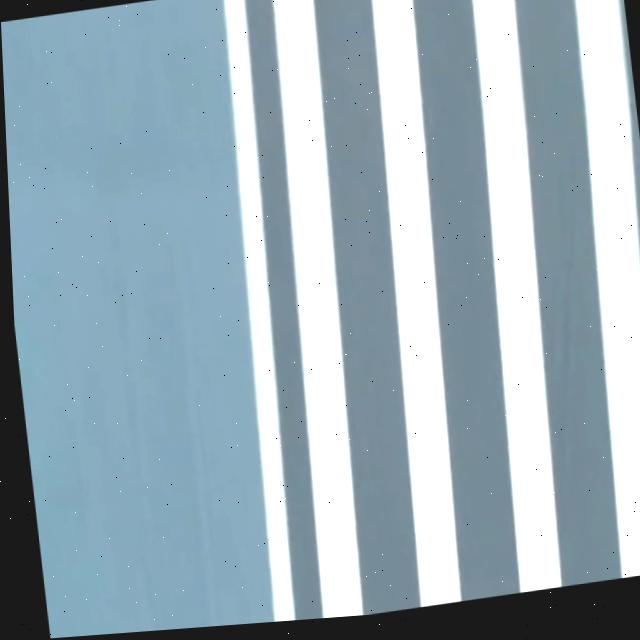left: (222, 0, 294, 622)
